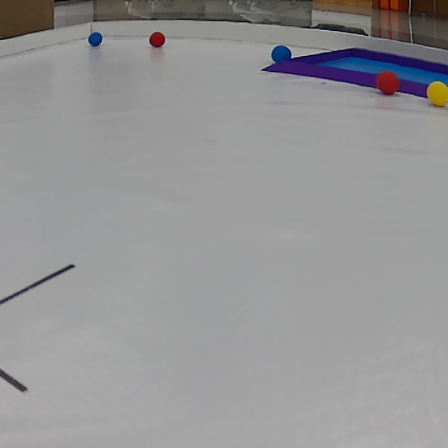blue: (271, 45, 291, 61), (88, 33, 102, 47)
blue_aim: (263, 41, 448, 107)
red: (376, 69, 401, 98), (148, 32, 167, 46)
yellow: (428, 80, 447, 109)
